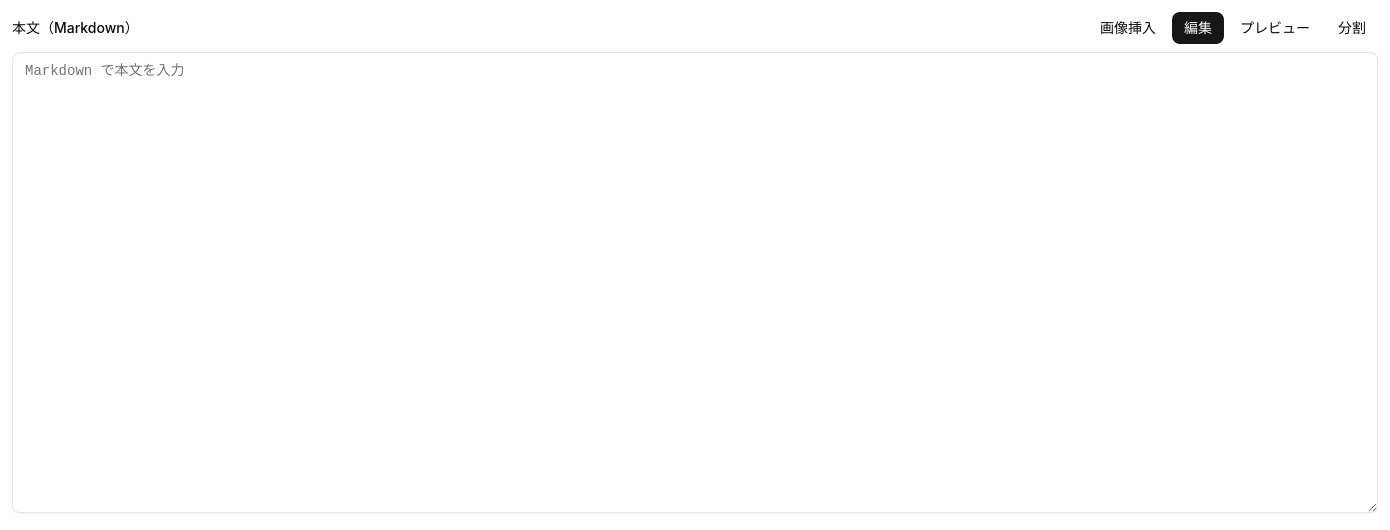
Test: MarkdownEditor › bodyが空の場合プレビューに「本文がありません」が表示される
The image size is (1390, 530).
Click the button "プレビュー": (1275, 28) [1228, 12, 1322, 44]
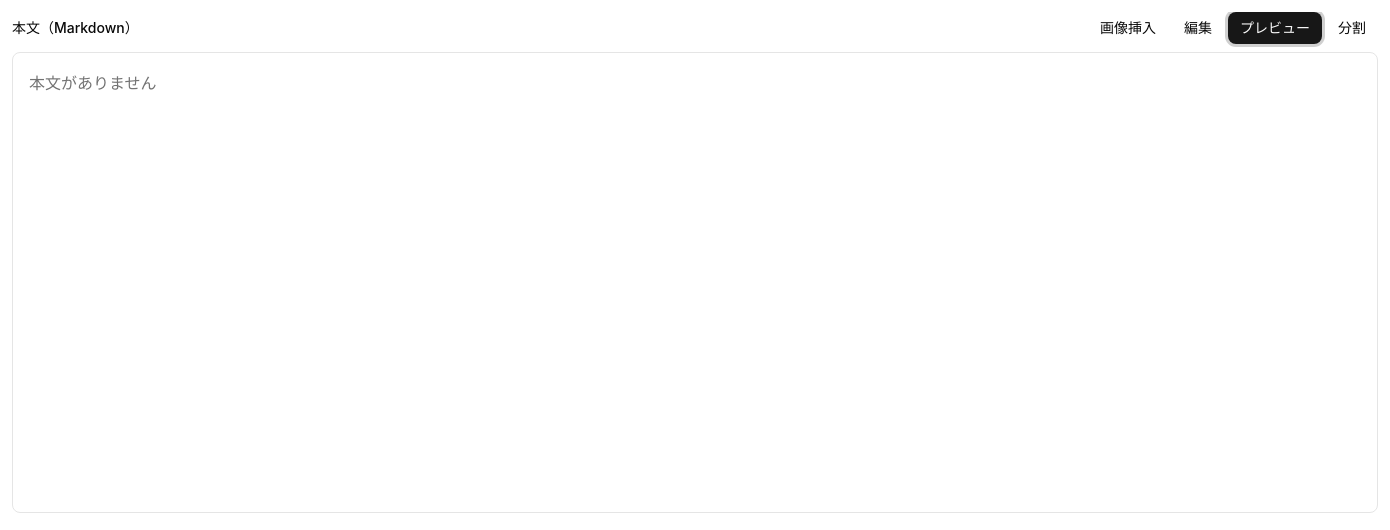
Expected: the text "本文がありません" is shown, [29, 73, 156, 93]
